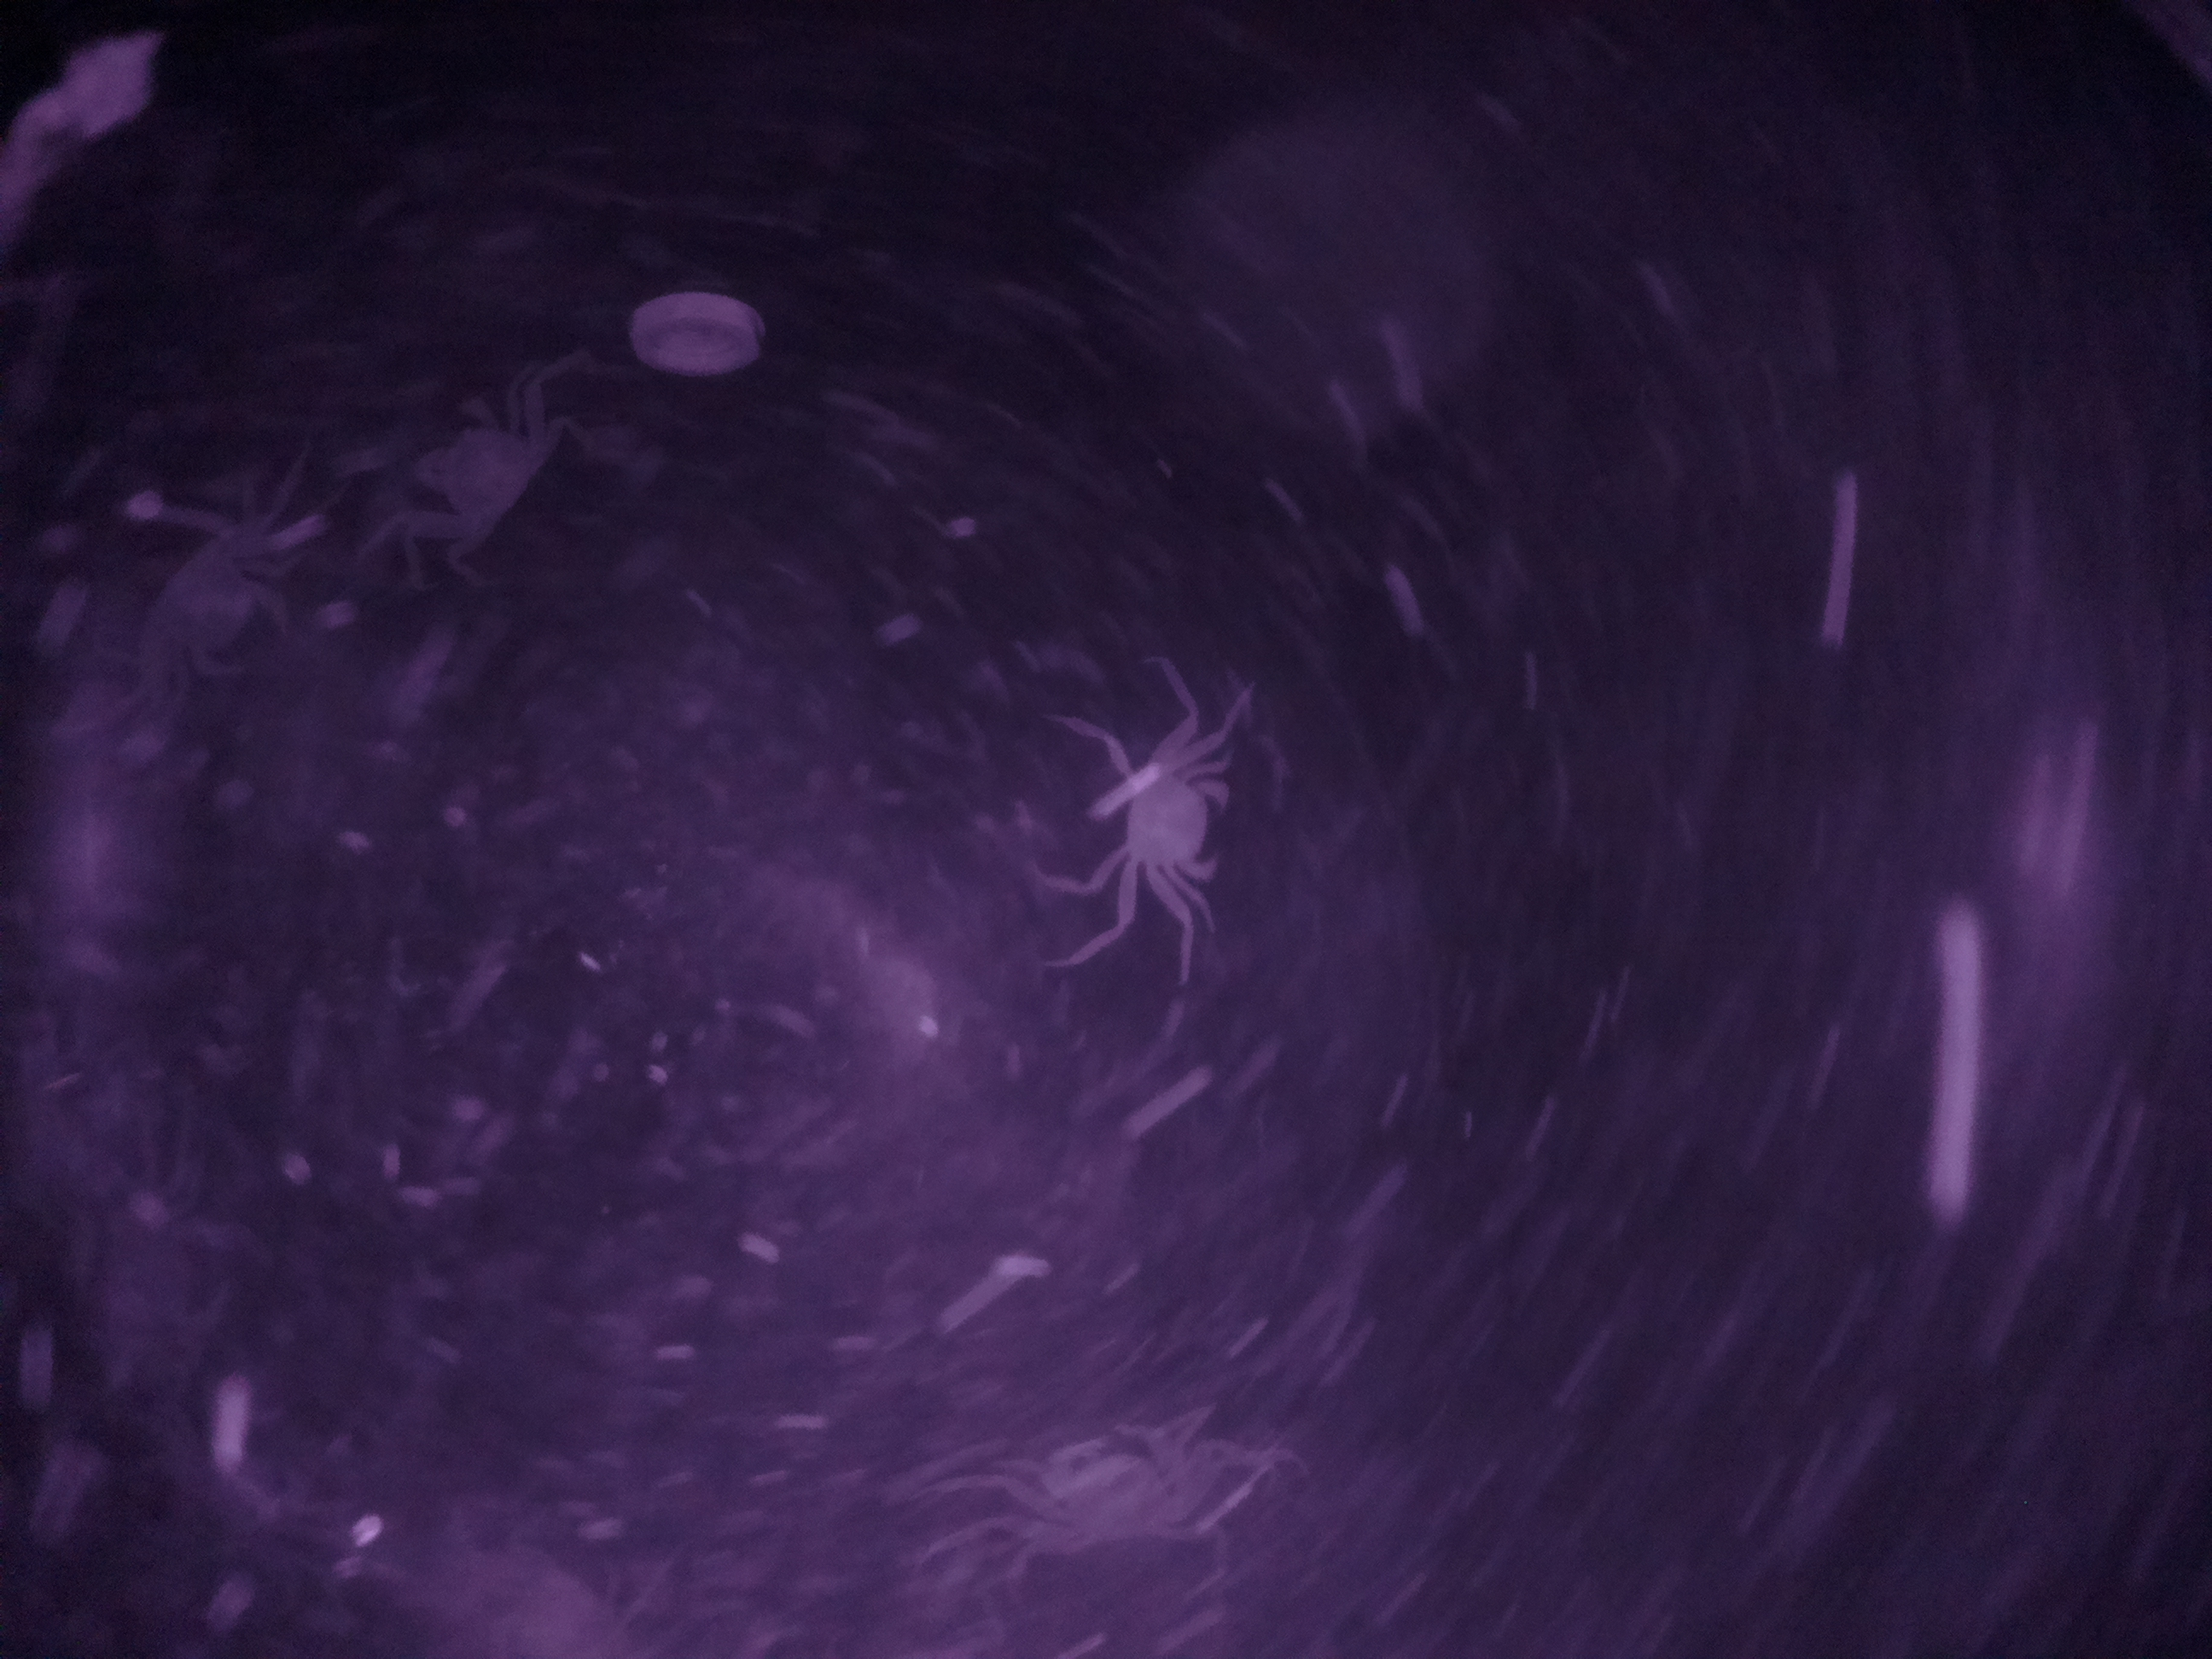Crab: (1066, 746, 1263, 904)
